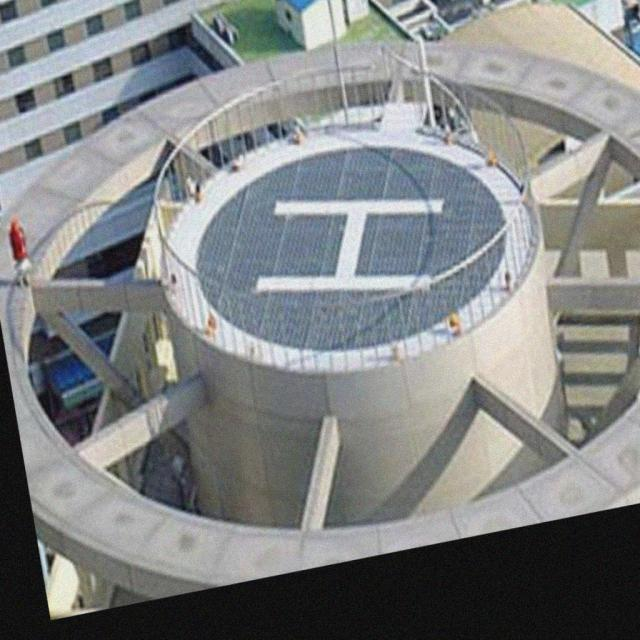helipad: (154, 117, 540, 377)
